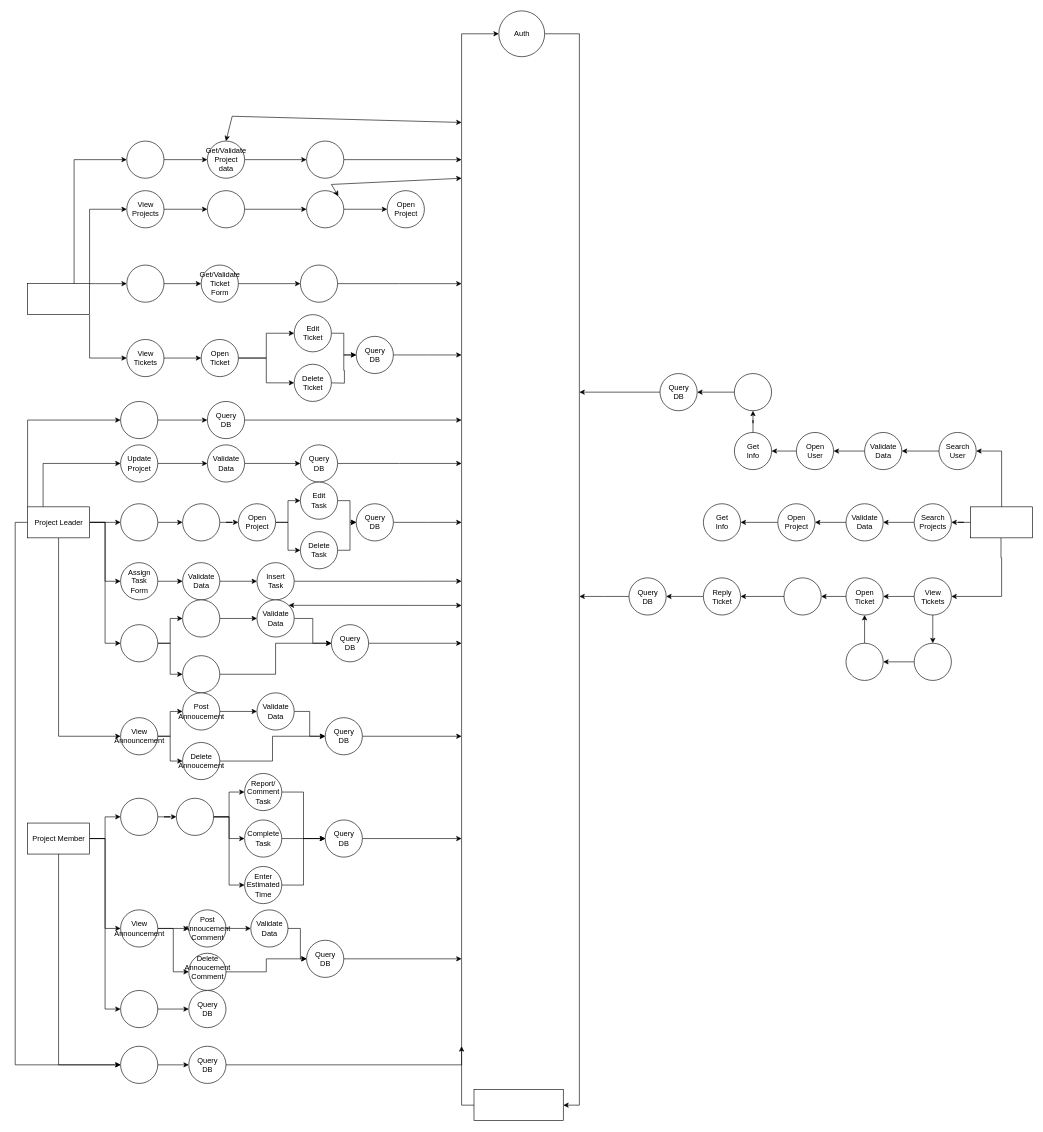
This 1043x1132 diagram has some shape labels left out. The shapes that lost their labels are listed below. From the top down, each one's box as (x1, y1, x2, y2) in pixels, then its label:
(126, 140, 164, 178): Create Project Form
(306, 140, 344, 178): Insert Project
(207, 190, 245, 228): Enter Project
(306, 190, 344, 228): Selected Project Query
(27, 283, 90, 315): User
(126, 264, 164, 302): Ticket Form
(300, 264, 338, 302): Insert Ticket
(734, 373, 772, 411): Delete User
(120, 401, 158, 439): Delete Project
(120, 503, 158, 541): View Task
(182, 503, 220, 541): Select Query
(970, 506, 1033, 538): Admin
(783, 577, 821, 615): Select Info Query
(182, 599, 220, 637): Add Member
(120, 624, 158, 662): View Members
(845, 643, 883, 680): Validate
(914, 643, 951, 680): Search Ticket
(182, 655, 220, 693): Remove Member
(120, 798, 158, 835): View Tasks
(176, 798, 214, 835): Open Task
(120, 990, 158, 1028): View Project Info
(120, 1046, 158, 1083): View Dashboard
(473, 1089, 563, 1121): DB
